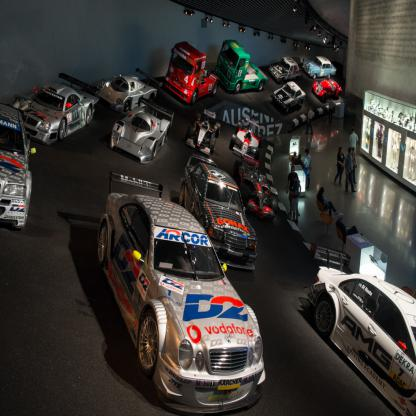Car: (93, 198, 277, 402), (305, 278, 416, 416), (177, 149, 257, 271), (12, 69, 95, 144), (0, 100, 33, 232), (109, 99, 171, 162), (92, 66, 159, 115), (238, 165, 279, 219), (188, 107, 223, 156), (230, 112, 260, 164), (273, 77, 307, 114), (269, 56, 303, 88), (300, 51, 337, 79), (313, 79, 343, 100)
